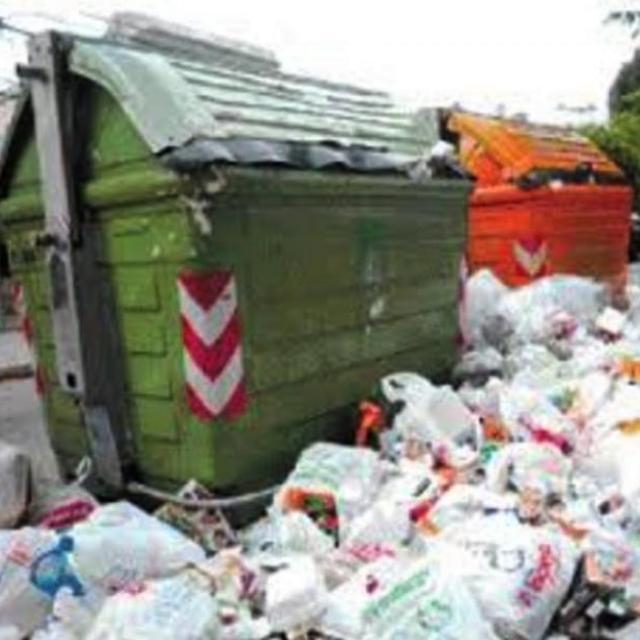garbage: (0, 476, 462, 640), (463, 260, 640, 640), (279, 378, 493, 528), (512, 160, 634, 196), (399, 136, 469, 187), (1, 430, 24, 580)
